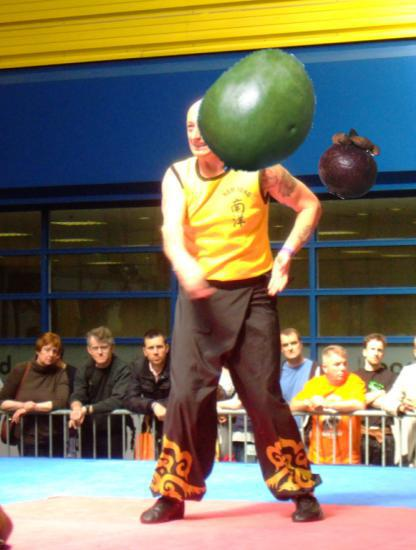Mango: (193, 47, 326, 180)
Mangostan: (316, 130, 386, 200)
